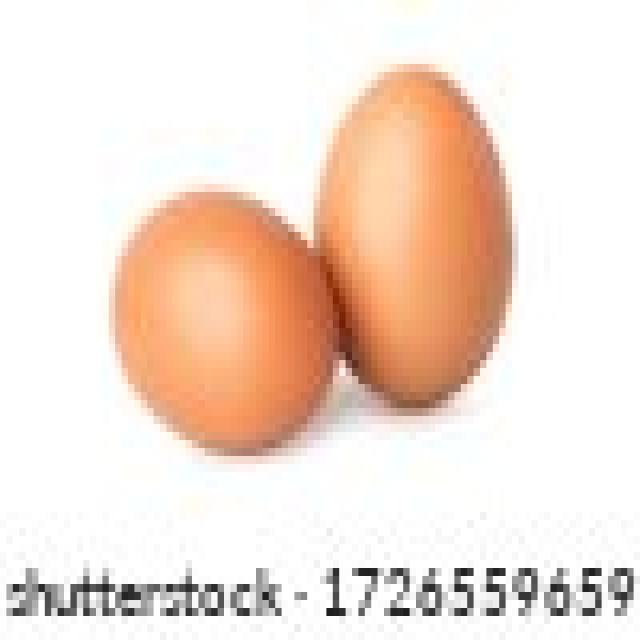Brown Egg: (333, 31, 523, 426), (98, 172, 336, 486)
